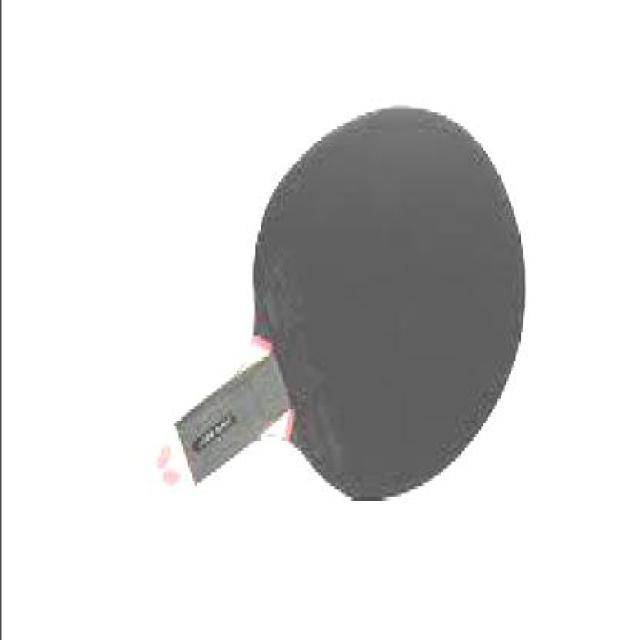table_tennis_racket: (235, 96, 530, 502)
